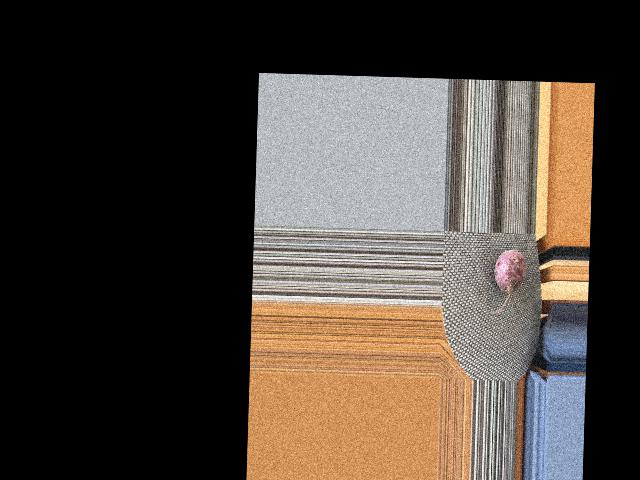beet: (489, 249, 527, 315)
